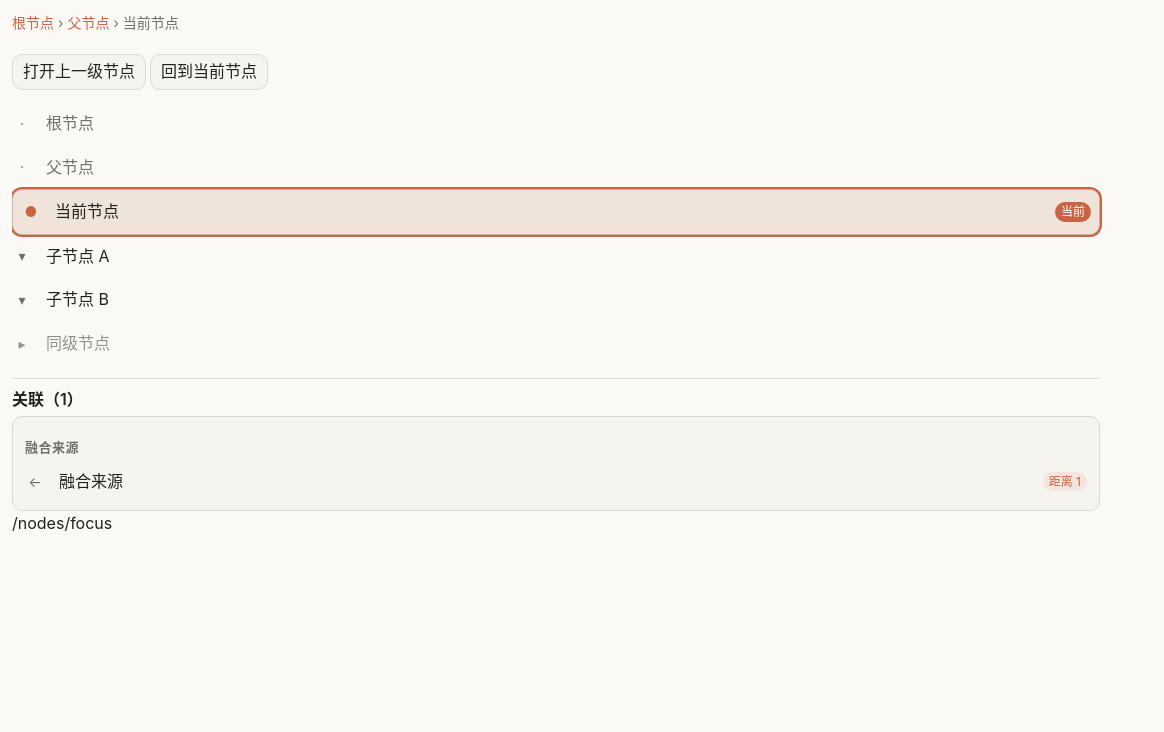
FocusLineage › 关联区默认展开并计数，可折叠收起
Expected: the button "融合来源" is shown, [53, 468, 1035, 496]
Click the button with test id "focus-related-toggle" at (47, 399), box [12, 386, 83, 412]
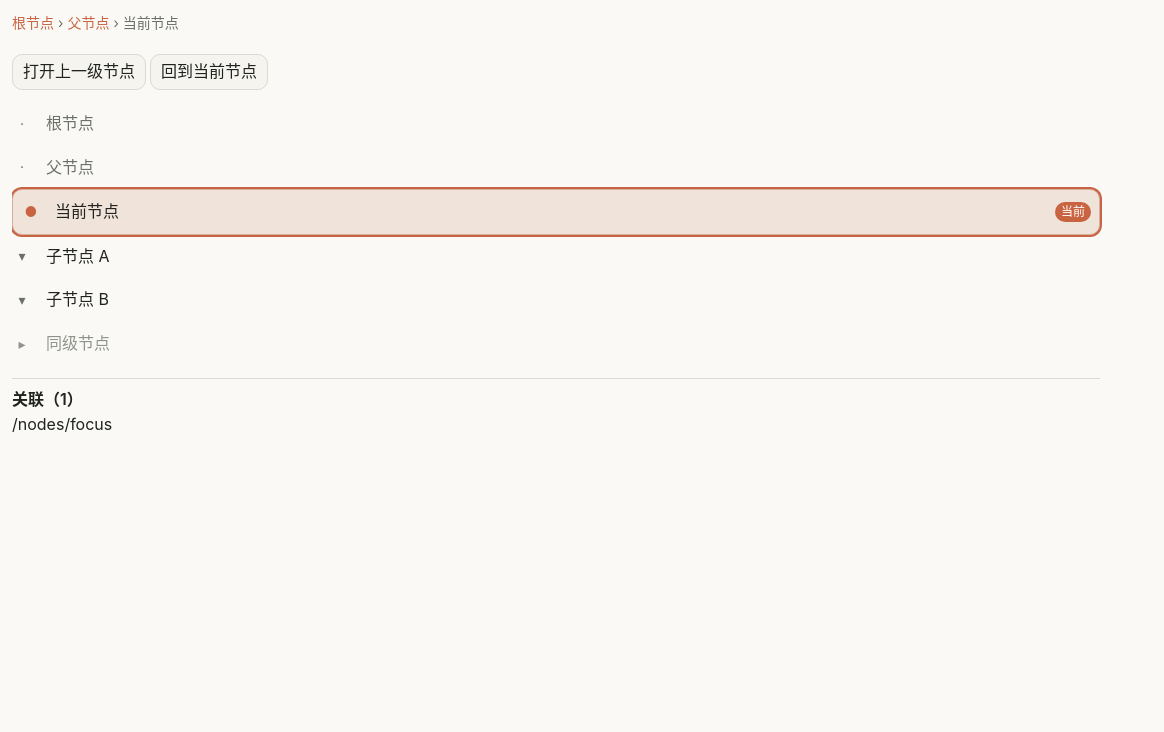
Now the heading "融合来源" is gone
